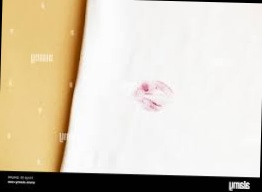lipstick: (136, 80, 174, 112)
